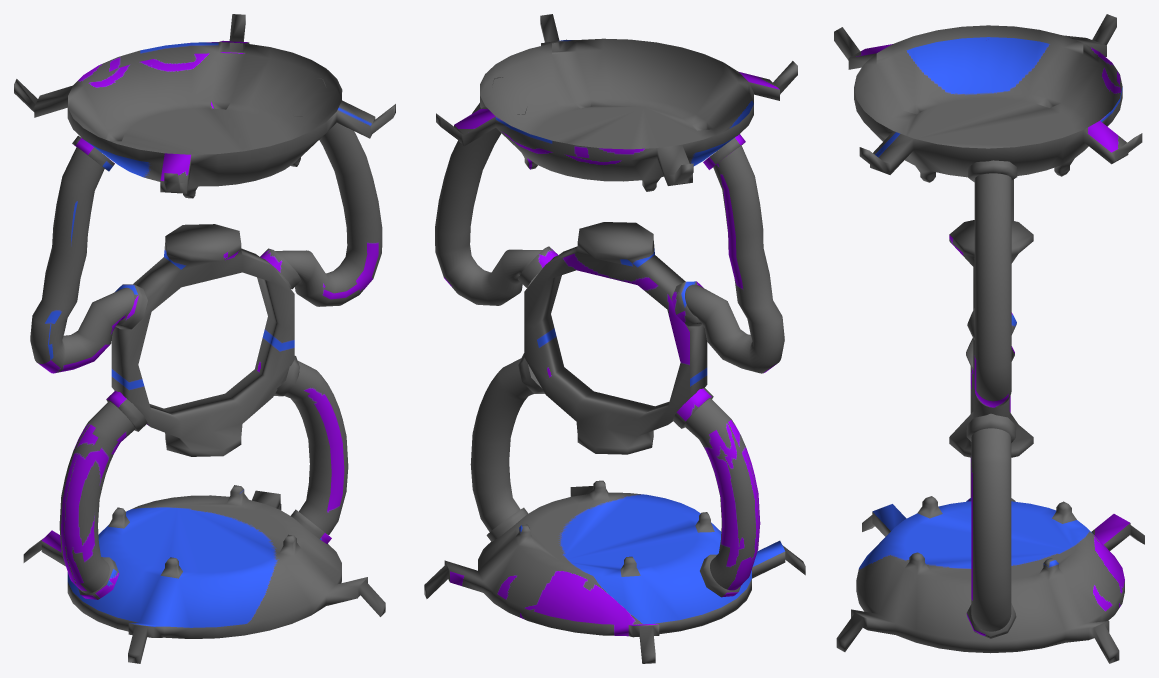
File: center_platform_middle.fbx
The picture shows the model from 3 angles, left to right: view 1: azimuth 30°, elevation 25°; view 2: azimuth 150°, elevation 25°; view 3: azimuth 270°, elevation 25°; orthographic projection. The views are drawn at different scales.
Visible parts, largest first — view 1: portal; view 2: portal; view 3: portal.
Boxes of the visible parts, x1,y1,x2,y2 form: portal: (14,14,395,663); portal: (424,14,805,663); portal: (834,14,1144,663).
Size of the model in its own units: 399 by 546 by 299.
Materials: 1 (1 with a texture image).
